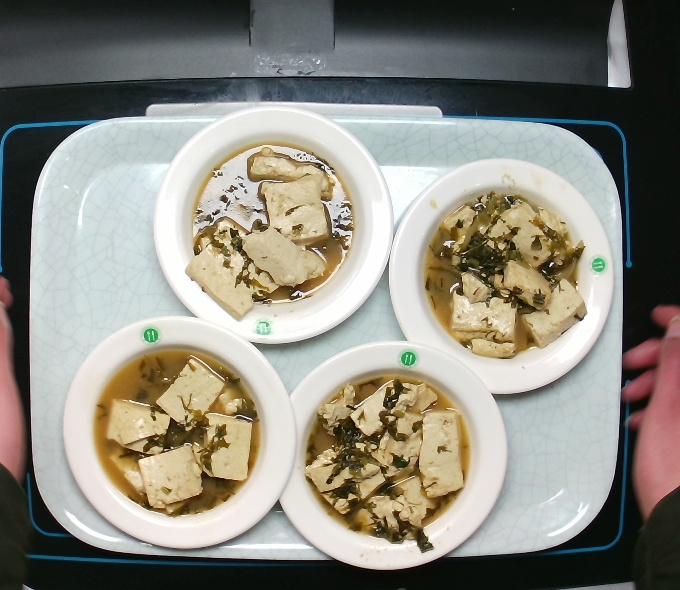wcq-XueCaiDouFu: (415, 182, 586, 361), (94, 342, 262, 518), (303, 368, 471, 541), (190, 140, 356, 310)
